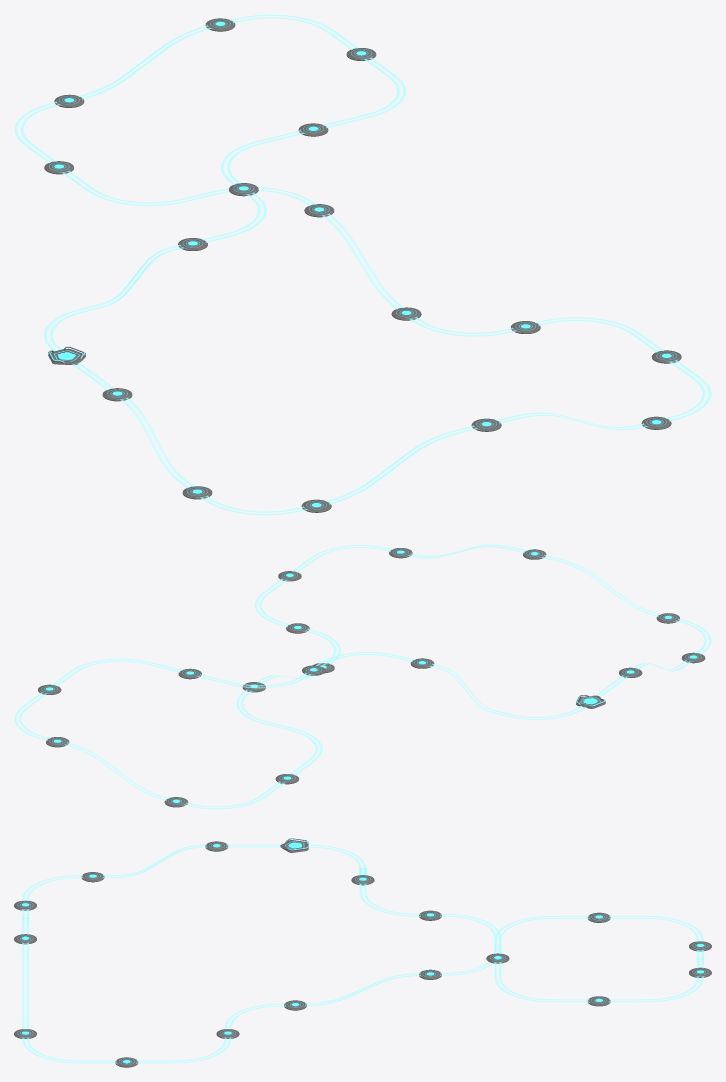
File: Minigame_Synth_Scene.glb
The picture shows the model from 3 angles, top to bottom: view 1: azimuth 30°, elevation 25°; view 2: azimuth 150°, elevation 25°; view 3: azimuth 270°, elevation 25°; orthographic projection. The views are drawn at different scales.
Visible parts, largest first — view 1: Scene_Road; view 2: Scene_Road; view 3: Scene_Road.
Part boxes in pixels (<box>): Scene_Road: <box>14,14,711,515</box>; Scene_Road: <box>14,544,711,809</box>; Scene_Road: <box>21,844,703,1063</box>.
Size of the model in its own units: 207 by 30.59 by 310.
3 materials, 3 textured.
